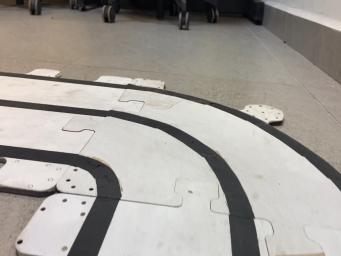street: (0, 70, 341, 256), (0, 70, 341, 256)
